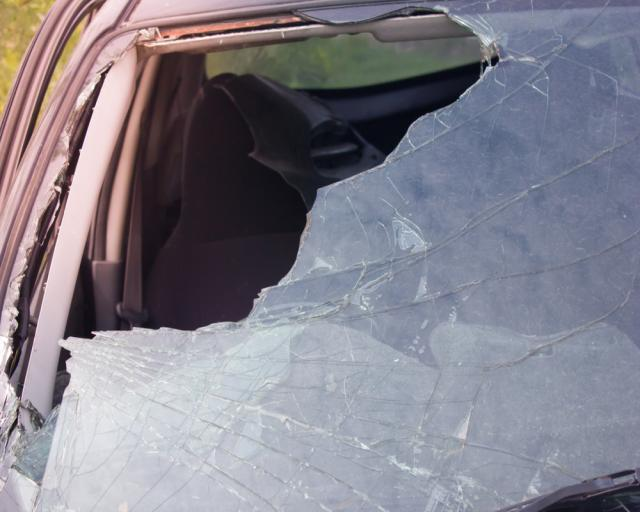glass shatter: (0, 0, 640, 512)
